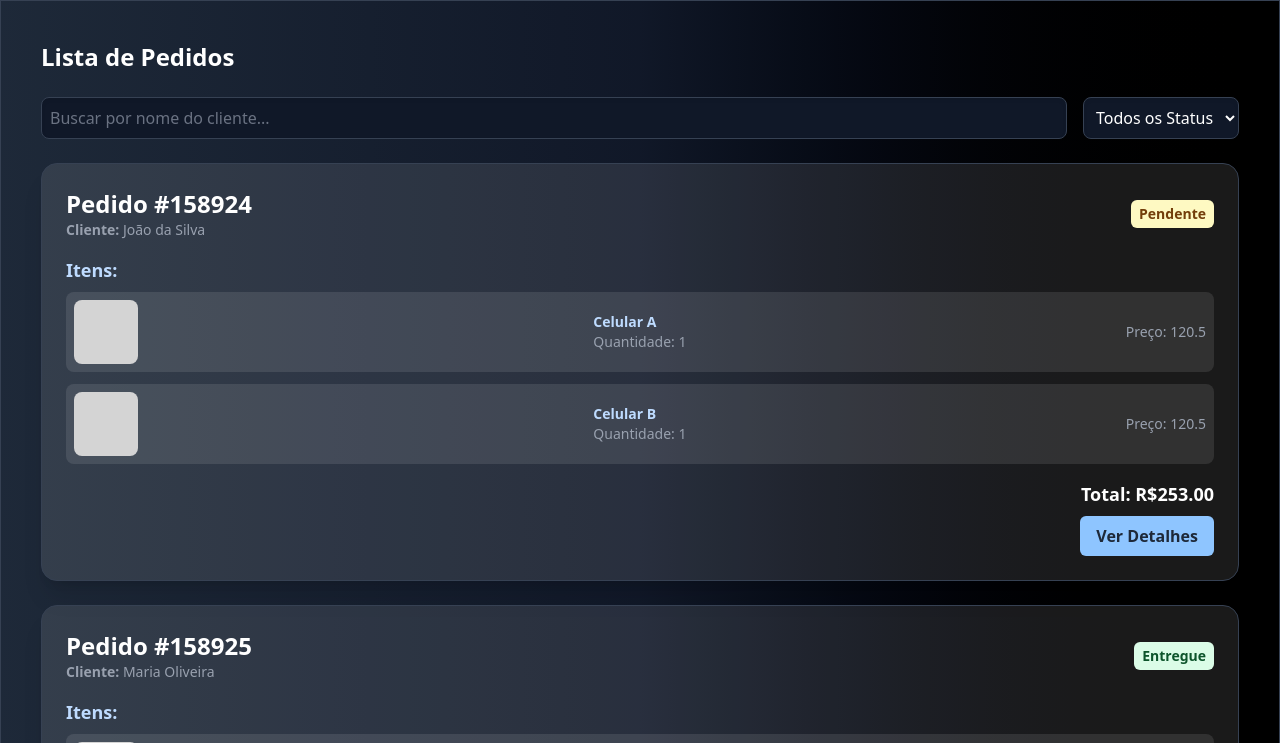
Test: Home Page › filters orders by status
Select "Aprovado" in the 1st list at [1161, 118], box top-left (1083, 97), bottom-right (1239, 139)
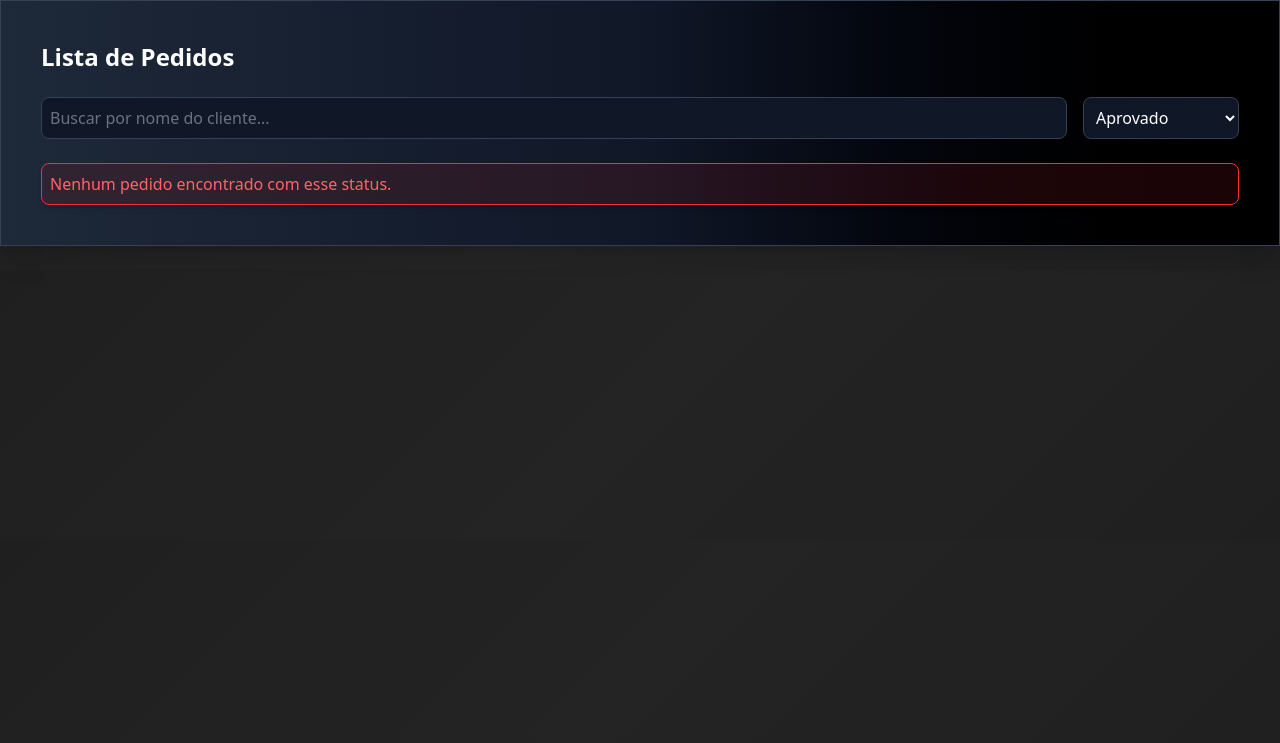
Expected: the text "Nenhum pedido encontrado com esse status." is shown, top-left (41, 163), bottom-right (1239, 205)
